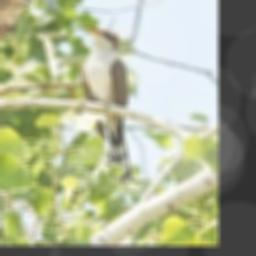Cuckoo: (80, 27, 133, 186)
